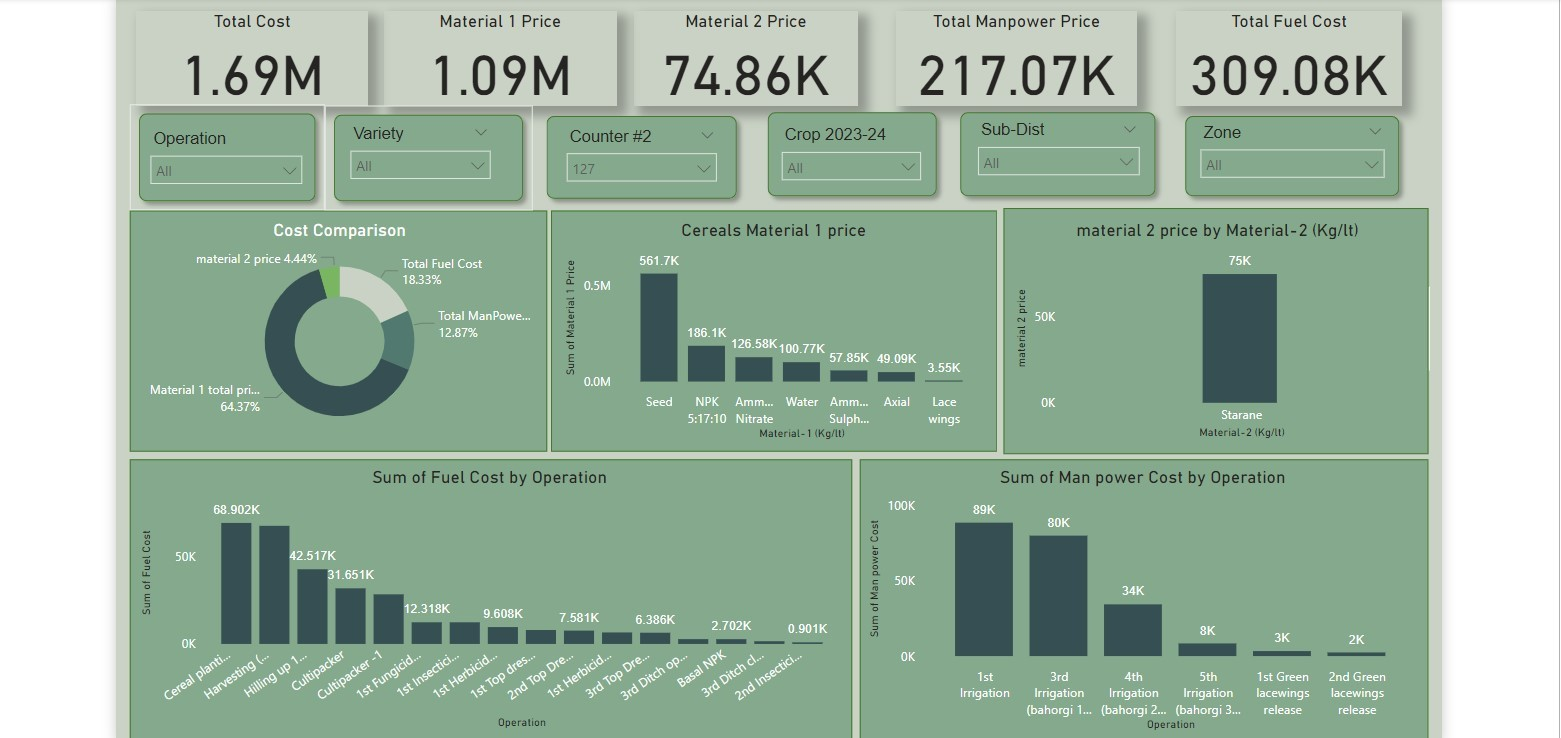

What the dashboard file says about the page in this screenshot:
{"tool":"powerbi","page":{"name":"Cereals","canvas":[1280,720],"ordinal":0},"visuals":[{"type":"card","title":"Material 1 Price ","fields":{"Values":["CerealsCosting Mate 1.Material 1 total price"]},"box":[258.2,12.1,225.6,91.7],"z":0},{"type":"card","title":"Material 2 Price ","fields":{"Values":["CerealsCosting mate 2.material 2 price"]},"box":[499.5,12.1,217.2,91.7],"z":1000},{"type":"card","title":"Total Manpower Price ","fields":{"Values":["CerealsCosting man power cost.Total ManPower Cost"]},"box":[752.8,12.1,232.8,91.7],"z":2000},{"type":"card","title":"Total Fuel Cost","fields":{"Values":["CerealsCosting fuel cost.Total Fuel Cost"]},"box":[1023.1,12.1,218.4,91.7],"z":3000},{"type":"slicer","fields":{"Values":["Cereals_unpv no SE.Variety"]},"box":[1095.4,278.7,172.5,80.8],"z":4000},{"type":"card","title":"Total Cost ","fields":{"Values":["CerealsCosting.Total Cost"]},"box":[19.3,12.1,224.4,91.7],"z":5000},{"type":"shape","box":[805.9,101.3,206.3,98.9],"z":6000,"group":"g12"},{"type":"shape","box":[13.3,102.5,188.2,102.5],"z":6000,"group":"g5"},{"type":"shape","box":[201.5,103.8,200.3,101.3],"z":6000,"group":"g13"},{"type":"group","id":"g1","title":"Group 1","box":[419.8,205.1,430.7,232.8],"z":6000},{"type":"shape","box":[620.1,101.3,181,98.9],"z":7000,"group":"g9"},{"type":"shape","box":[406.6,105,201.5,97.7],"z":7000},{"type":"shape","box":[1023.1,105,224.4,95.3],"z":7000,"group":"g6"},{"type":"group","id":"g2","title":"Group 2","box":[13.3,205.1,403,232.8],"z":8000},{"type":"shape","box":[856.6,202.7,410.2,237.7],"z":9000},{"type":"lineStackedColumnComboChart","fields":{"Y":["CerealsCosting mate 2.material 2 price"],"Category":["CerealsCosting mate 2.Material-2 (Kg/lt)"]},"box":[863.8,213.5,398.1,217.2],"z":10000},{"type":"group","id":"g3","title":"Group 5","box":[13.3,445.2,697.3,272.7],"z":11000},{"type":"group","id":"g4","title":"Group 6","box":[717.8,445.2,548.9,273.9],"z":12000},{"type":"group","id":"g5","title":"Group 7","box":[13.3,102.5,188.2,102.5],"z":13000},{"type":"group","id":"g6","title":"Group 8","box":[1023.1,105,224.4,95.3],"z":14000},{"type":"slicer","fields":{"Values":["Cereals_unpv no SE.Zone"]},"box":[1036.2,116.2,198.1,68.4],"z":14000,"group":"g6"},{"type":"group","id":"g7","title":"Group 9","box":[805.9,101.3,206.3,98.9],"z":15000},{"type":"shape","box":[717.8,445.2,548.9,273.9],"z":15000,"group":"g4"},{"type":"group","id":"g8","title":"Group 9","box":[201.5,103.8,200.3,101.3],"z":16000},{"type":"slicer","fields":{"Values":["Cereals_unpv no SE.Operation"]},"box":[22.5,121.8,167.1,65.1],"z":16500,"group":"g5"},{"type":"slicer","fields":{"Values":["Cereals_unpv no SE.Variety"]},"box":[216,117,155.6,68.8],"z":17000},{"type":"shape","box":[13.3,205.1,403,232.8],"z":17000,"group":"g11"},{"type":"shape","box":[419.8,205.1,430.7,232.8],"z":17000,"group":"g1"},{"type":"clusteredColumnChart","title":"Cereals Material 1 price","fields":{"Y":["Sum(CerealsCosting Mate 1.Material 1 Price)"],"Category":["CerealsCosting Mate 1.Material-1 (Kg/lt)"]},"box":[428,214.1,413,217.6],"z":17500,"group":"g1"},{"type":"group","id":"g9","title":"Group 10","box":[620.1,101.3,181,98.9],"z":18000},{"type":"donutChart","title":"Cost Comparison","fields":{"Y":["CerealsCosting fuel cost.Total Fuel Cost","CerealsCosting man power cost.Total ManPower Cost","CerealsCosting Mate 1.Material 1 total price","CerealsCosting mate 2.material 2 price"]},"box":[25.4,213.3,381.2,216.8],"z":18000,"group":"g11"},{"type":"shape","box":[13.3,445.2,697.3,272.7],"z":18000,"group":"g3"},{"type":"group","id":"g10","title":"Group 3","box":[13.3,205.1,403,232.8],"z":18002,"group":"g2"},{"type":"group","id":"g11","title":"Group 4","box":[13.3,205.1,403,232.8],"z":18002,"group":"g10"},{"type":"group","id":"g12","title":"Group 7","box":[805.9,101.3,206.3,98.9],"z":19000,"group":"g7"},{"type":"group","id":"g13","title":"Group 7","box":[201.5,103.8,200.3,101.3],"z":19000,"group":"g8"},{"type":"slicer","fields":{"Values":["Cereals_unpv no SE.Counter #2"]},"box":[424.7,119.4,165.3,67.6],"z":19000},{"type":"lineStackedColumnComboChart","fields":{"Category":["CerealsCosting fuel cost.Operation"],"Y":["Sum(CerealsCosting fuel cost.Fuel Cost )"]},"box":[19.3,452,682.8,258],"z":19000,"group":"g3"},{"type":"slicer","fields":{"Values":["Cereals_unpv no SE.Crop  2023-24"]},"box":[632.5,118.5,154.8,64.4],"z":19500,"group":"g9"},{"type":"clusteredColumnChart","fields":{"Category":["CerealsCosting man power cost.Operation"],"Y":["Sum(CerealsCosting man power cost.Man power Cost )"]},"box":[721.9,452.9,539.3,259.7],"z":19500,"group":"g4"},{"type":"slicer","fields":{"Values":["Cereals_unpv no SE.Sub-Dist"]},"box":[821,112.9,176.1,71],"z":20000,"group":"g7"}]}

Visuals, with their boxes on the page's 1280x720 design canvas (x1, y1, x2, y2). These are canvas units, not pixel positions in the 1561x738 screenshot, which may show the page scaled, cropped or inside an application window:
"Material 1 Price " card: bbox(258, 12, 484, 104)
"Material 2 Price " card: bbox(500, 12, 717, 104)
"Total Manpower Price " card: bbox(753, 12, 986, 104)
"Total Fuel Cost" card: bbox(1023, 12, 1242, 104)
slicer - Cereals_unpv no SE.Variety: bbox(1095, 279, 1268, 360)
"Total Cost " card: bbox(19, 12, 244, 104)
shape: bbox(806, 101, 1012, 200)
shape: bbox(13, 102, 202, 205)
shape: bbox(202, 104, 402, 205)
"Group 1" group: bbox(420, 205, 850, 438)
shape: bbox(620, 101, 801, 200)
shape: bbox(407, 105, 608, 203)
shape: bbox(1023, 105, 1248, 200)
"Group 2" group: bbox(13, 205, 416, 438)
shape: bbox(857, 203, 1267, 440)
lineStackedColumnComboChart - CerealsCosting mate 2.material 2 price x CerealsCosting mate 2.Material-2 (Kg/lt): bbox(864, 214, 1262, 431)
"Group 5" group: bbox(13, 445, 711, 718)
"Group 6" group: bbox(718, 445, 1267, 719)
"Group 7" group: bbox(13, 102, 202, 205)
"Group 8" group: bbox(1023, 105, 1248, 200)
slicer - Cereals_unpv no SE.Zone: bbox(1036, 116, 1234, 185)
"Group 9" group: bbox(806, 101, 1012, 200)
shape: bbox(718, 445, 1267, 719)
"Group 9" group: bbox(202, 104, 402, 205)
slicer - Cereals_unpv no SE.Operation: bbox(22, 122, 190, 187)
slicer - Cereals_unpv no SE.Variety: bbox(216, 117, 372, 186)
shape: bbox(13, 205, 416, 438)
shape: bbox(420, 205, 850, 438)
"Cereals Material 1 price" clusteredColumnChart: bbox(428, 214, 841, 432)
"Group 10" group: bbox(620, 101, 801, 200)
"Cost Comparison" donutChart: bbox(25, 213, 407, 430)
shape: bbox(13, 445, 711, 718)
"Group 3" group: bbox(13, 205, 416, 438)
"Group 4" group: bbox(13, 205, 416, 438)
"Group 7" group: bbox(806, 101, 1012, 200)
"Group 7" group: bbox(202, 104, 402, 205)
slicer - Cereals_unpv no SE.Counter #2: bbox(425, 119, 590, 187)
lineStackedColumnComboChart - CerealsCosting fuel cost.Operation x Sum(CerealsCosting fuel cost.Fuel Cost ): bbox(19, 452, 702, 710)
slicer - Cereals_unpv no SE.Crop  2023-24: bbox(632, 118, 787, 183)
clusteredColumnChart - CerealsCosting man power cost.Operation x Sum(CerealsCosting man power cost.Man power Cost ): bbox(722, 453, 1261, 713)
slicer - Cereals_unpv no SE.Sub-Dist: bbox(821, 113, 997, 184)
